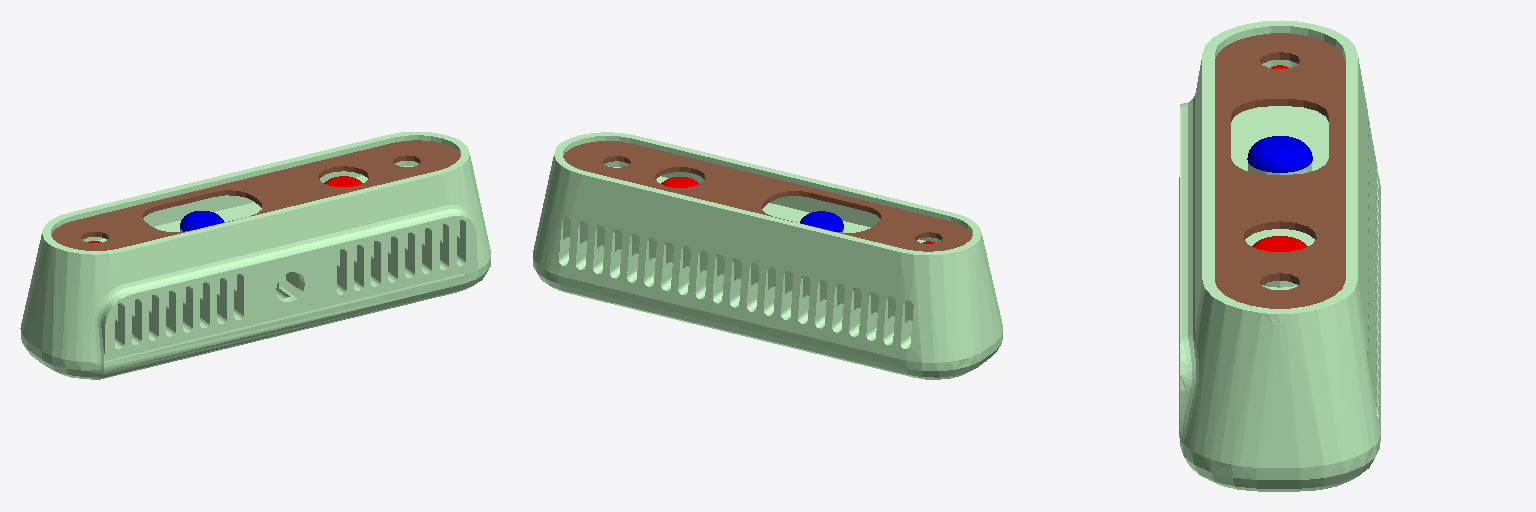
The robot description file, URDF, robot "camera":
<?xml version="1.0" encoding="utf-8"?>
<!-- This URDF was automatically created by SolidWorks to URDF Exporter! Originally created by Stephen Brawner (brawner@gmail.com) 
     Commit Version: 1.6.0-4-g7f85cfe  Build Version: 1.6.7995.38578
     For more information, please see http://wiki.ros.org/sw_urdf_exporter -->
<robot
  name="camera">
  <link
    name="base_link">
    <inertial>
      <origin
        xyz="1.8386017256322E-05 0.0121106333575236 -0.000925064162838425"
        rpy="0 0 0" />
      <mass
        value="0.089837599324514" />
      <inertia
        ixx="7.29305890037371E-06"
        ixy="3.20767409554941E-10"
        ixz="-1.78474723509001E-08"
        iyy="6.08286835368981E-05"
        iyz="4.92978007946511E-08"
        izz="6.14425832943228E-05" />
    </inertial>
    <visual>
      <origin
        xyz="0 0 0"
        rpy="0 0 0" />
      <geometry>
        <mesh
          filename="package://camera/meshes/base_link.STL" />
      </geometry>
      <material
        name="Black">
        <color
          rgba="0.8 1 0.8 1" />
      </material>
    </visual>
    <collision>
      <origin
        xyz="0 0 0"
        rpy="0 0 0" />
      <geometry>
        <mesh
          filename="package://camera/meshes/base_link.STL" />
      </geometry>
    </collision>
  </link>
  <link
    name="Link_left_depth">
    <inertial>
      <origin
        xyz="-6.93889390390723E-18 -2.97595413136635E-36 0.000339772440268237"
        rpy="0 0 0" />
      <mass
        value="5.43205075383495E-05" />
      <inertia
        ixx="6.21043187601662E-11"
        ixy="-3.91138337645837E-43"
        ixz="5.24488635466825E-29"
        iyy="6.21043187601662E-11"
        iyz="-1.07528163018172E-43"
        izz="9.50350954643001E-11" />
    </inertial>
    <visual>
      <origin
        xyz="0 0 0"
        rpy="0 0 0" />
      <geometry>
        <mesh
          filename="package://camera/meshes/Link_left_depth.STL" />
      </geometry>
      <material
        name="Red">
        <color
          rgba="1 0 0 1" />
      </material>
    </visual>
    <collision>
      <origin
        xyz="0 0 0"
        rpy="0 0 0" />
      <geometry>
        <mesh
          filename="package://camera/meshes/Link_left_depth.STL" />
      </geometry>
    </collision>
  </link>
  <joint
    name="joint1"
    type="fixed">
    <origin
      xyz="-0.0329623935367042 0.0122741227822766 0.00992257519599611"
      rpy="0 0 0" />
    <parent
      link="base_link" />
    <child
      link="Link_left_depth" />
    <axis
      xyz="0 0 0" />
  </joint>
  <link
    name="Link_point_matrix">
    <inertial>
      <origin
        xyz="-1.73472347597681E-18 -5.22294647013031E-36 0.000875170878881264"
        rpy="0 0 0" />
      <mass
        value="0.000220095894659259" />
      <inertia
        ixx="8.15056376643653E-10"
        ixy="-8.05109671961335E-42"
        ixz="9.86319422265173E-27"
        iyy="8.15056376643652E-10"
        iyz="-1.03889613456541E-42"
        izz="1.4998808236006E-09" />
    </inertial>
    <visual>
      <origin
        xyz="0 0 0"
        rpy="0 0 0" />
      <geometry>
        <mesh
          filename="package://camera/meshes/Link_point_matrix.STL" />
      </geometry>
      <material
        name="Blue">
        <color
          rgba="0 0 1 1" />
      </material>
    </visual>
    <collision>
      <origin
        xyz="0 0 0"
        rpy="0 0 0" />
      <geometry>
        <mesh
          filename="package://camera/meshes/Link_point_matrix.STL" />
      </geometry>
    </collision>
  </link>
  <joint
    name="joint2"
    type="fixed">
    <origin
      xyz="-0.0109623935367042 0.0122741227822766 0.00942257519599611"
      rpy="0 0 0" />
    <parent
      link="base_link" />
    <child
      link="Link_point_matrix" />
    <axis
      xyz="0 0 0" />
  </joint>
  <link
    name="Link_right_depth">
    <inertial>
      <origin
        xyz="-3.46944695195361E-18 0 0.000875170878881268"
        rpy="0 0 0" />
      <mass
        value="0.000220095894659259" />
      <inertia
        ixx="8.15056376643651E-10"
        ixy="-7.02123150425064E-42"
        ixz="-1.32824701735016E-27"
        iyy="8.15056376643651E-10"
        iyz="-9.47628086499658E-42"
        izz="1.4998808236006E-09" />
    </inertial>
    <visual>
      <origin
        xyz="0 0 0"
        rpy="0 0 0" />
      <geometry>
        <mesh
          filename="package://camera/meshes/Link_right_depth.STL" />
      </geometry>
      <material
        name="Red">
        <color
          rgba="1 0 0 1" />
      </material>
    </visual>
    <collision>
      <origin
        xyz="0 0 0"
        rpy="0 0 0" />
      <geometry>
        <mesh
          filename="package://camera/meshes/Link_right_depth.STL" />
      </geometry>
    </collision>
  </link>
  <joint
    name="joint3"
    type="fixed">
    <origin
      xyz="0.0179623935367042 0.0122741227822766 0.00942257519599611"
      rpy="0 0 0" />
    <parent
      link="base_link" />
    <child
      link="Link_right_depth" />
    <axis
      xyz="0 0 0" />
  </joint>
  <link
    name="Link_RGB">
    <inertial>
      <origin
        xyz="3.46944695195361E-18 -7.63958078279334E-20 0"
        rpy="0 0 0" />
      <mass
        value="4.18879020478639E-06" />
      <inertia
        ixx="1.67551608191456E-12"
        ixy="0"
        ixz="0"
        iyy="1.67551608191456E-12"
        iyz="0"
        izz="1.67551608191456E-12" />
    </inertial>
    <visual>
      <origin
        xyz="0 0 0"
        rpy="0 0 0" />
      <geometry>
        <mesh
          filename="package://camera/meshes/Link_RGB.STL" />
      </geometry>
      <material
        name="Green">
        <color
          rgba="0 1 0 1" />
      </material>
    </visual>
    <collision>
      <origin
        xyz="0 0 0"
        rpy="0 0 0" />
      <geometry>
        <mesh
          filename="package://camera/meshes/Link_RGB.STL" />
      </geometry>
    </collision>
  </link>
  <joint
    name="joint4"
    type="fixed">
    <!-- 修改了该joint的坐标系方向，为了与图像坐标系对齐 -->
    <origin
      xyz="0.0309623935367042 0.0122741227822766 0.00942257519599611"
      rpy="0 0 3.14" /> 
    <parent
      link="base_link" />
    <child
      link="Link_RGB" />
    <axis
      xyz="0 0 0" />
  </joint>
  <link
    name="Link_end">
    <inertial>
      <origin
        xyz="0.00171632073873391 0.0122741227822766 0.0119225751959961"
        rpy="0 0 0" />
      <mass
        value="0.00245133225673037" />
      <inertia
        ixx="6.11884516518844E-08"
        ixy="-1.20870238069248E-11"
        ixz="-5.61586524006748E-24"
        iyy="1.46473056099688E-06"
        iyz="-1.42634718370369E-24"
        izz="1.52551045024919E-06" />
    </inertial>
    <visual>
      <origin
        xyz="0 0 0"
        rpy="0 0 0" />
      <geometry>
        <mesh
          filename="package://camera/meshes/Link_end.STL" />
      </geometry>
      <material
        name="end">
        <color
          rgba="0.6 0.4 0.3 1" />
      </material>
    </visual>
    <collision>
      <origin
        xyz="0 0 0"
        rpy="0 0 0" />
      <geometry>
        <mesh
          filename="package://camera/meshes/Link_end.STL" />
      </geometry>
    </collision>
  </link>
  <joint
    name="joint5"
    type="fixed">
    <origin
      xyz="0 0 0"
      rpy="0 0 0" />
    <parent
      link="base_link" />
    <child
      link="Link_end" />
    <axis
      xyz="0 0 0" />
  </joint>
</robot>

--- Render facts (derived) ---
3 views of the same robot in one strip: view 1: azimuth 30°, elevation 25°; view 2: azimuth 150°, elevation 25°; view 3: azimuth 270°, elevation 25° (orthographic).
Robot: camera — 6 links, 5 joints (5 fixed); root link base_link; default pose: all joints at 0.
Links seen in each view (by area): view 1: base_link, Link_end, Link_point_matrix; view 2: base_link, Link_end, Link_point_matrix; view 3: base_link, Link_end, Link_point_matrix, Link_right_depth.
Boxes of the visible links, x1,y1,x2,y2 form: base_link: [20, 132, 490, 379]; Link_end: [51, 140, 460, 250]; Link_point_matrix: [180, 211, 223, 231]; base_link: [533, 132, 1002, 379]; Link_end: [563, 141, 972, 251]; Link_point_matrix: [800, 211, 843, 231]; base_link: [1179, 20, 1380, 491]; Link_end: [1215, 33, 1345, 308]; Link_point_matrix: [1247, 136, 1312, 172]; Link_right_depth: [1252, 236, 1307, 251].
Bounding box of the posed robot: 0.0907 × 0.0247 × 0.0241 m (x, y, z).
Meshes: 6 distinct files referenced, 6 mesh visuals loaded (6 binary STL).
